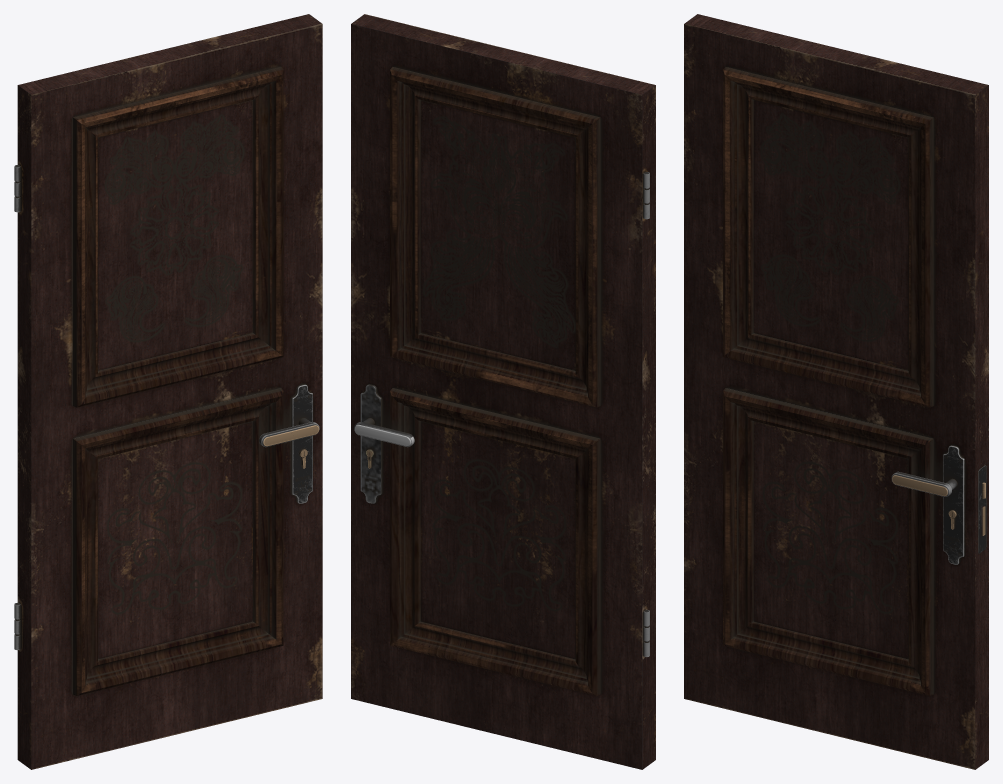
Rendered from door_wooden_-_12mb.glb.
3 renders of one model, left to right at view 1: azimuth 30°, elevation 25°; view 2: azimuth 150°, elevation 25°; view 3: azimuth 330°, elevation 25°, orthographic.
Visible parts, largest first — view 1: Door_Wooden; view 2: Door_Wooden; view 3: Door_Wooden.
Part boxes in pixels (x1=…): Door_Wooden: x1=14, y1=14, x2=322, y2=769; Door_Wooden: x1=351, y1=14, x2=655, y2=769; Door_Wooden: x1=684, y1=14, x2=988, y2=769.
Size of the model in its own units: 1.05 by 2.26 by 0.2303.
1 material, 1 textured.
